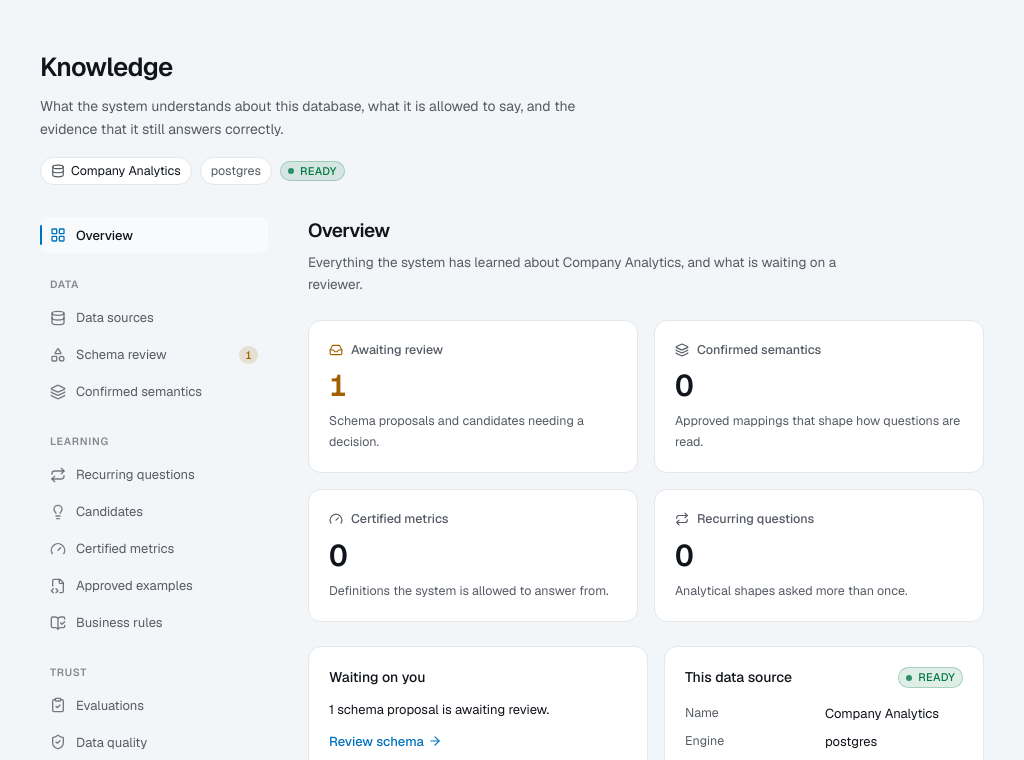
Scenario: Schema review › reads a relationship as two concepts rather than as a join
What coordinates should you click on to do the following:
click the tab "Schema review 1"
I would click on:
 (154, 355)
Its box is top-left (40, 337), bottom-right (268, 373).
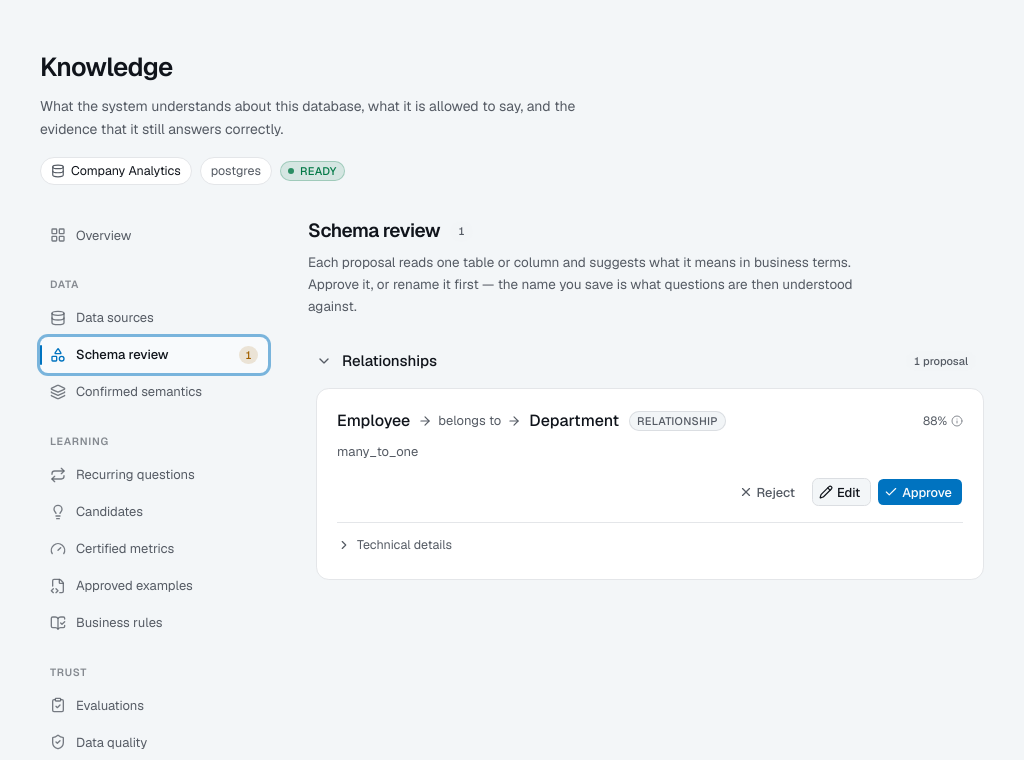
Now the heading "Employee belongs to Department" is shown, box top-left (337, 409), bottom-right (619, 433)
